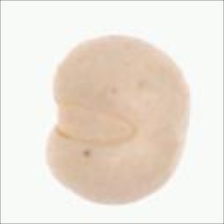L5: (54, 97, 140, 151)
L6: (43, 33, 191, 205)
